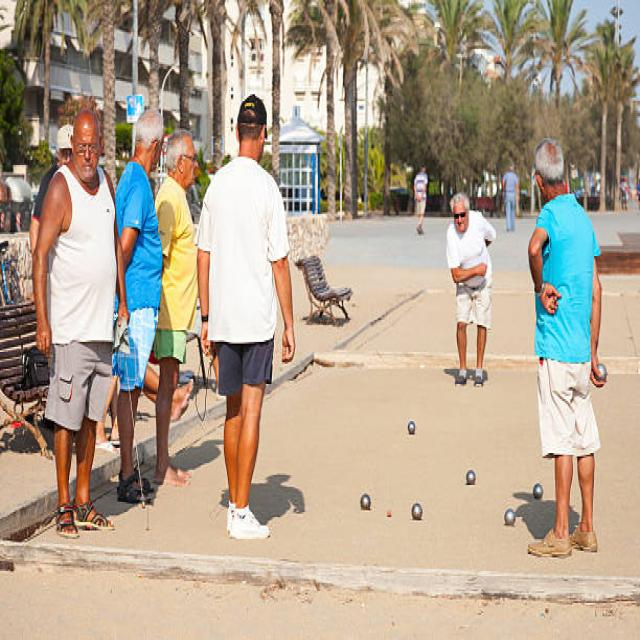hatball: (386, 506, 393, 521)
petanque: (407, 500, 425, 524), (356, 489, 373, 512), (502, 506, 517, 529), (402, 418, 420, 437), (531, 478, 545, 502), (465, 467, 479, 488), (594, 363, 608, 383)
